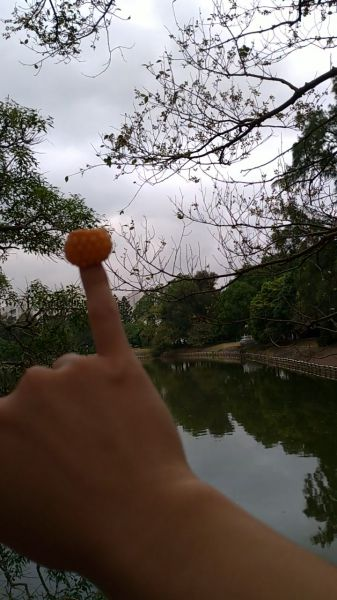eggs: (63, 229, 113, 269)
